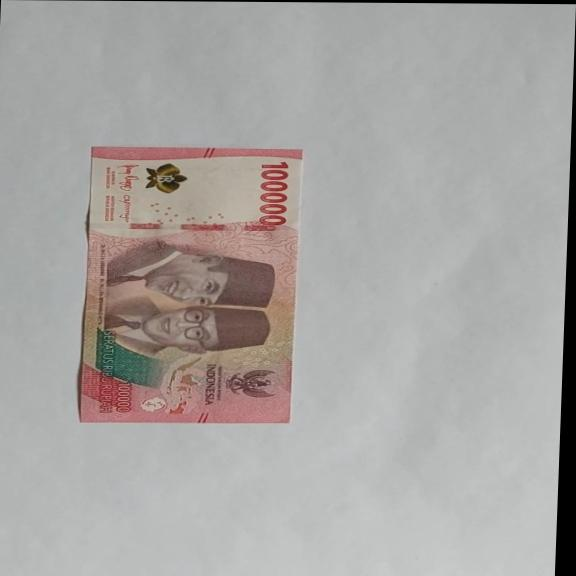Kertas: (76, 146, 305, 425), (256, 160, 292, 227)
